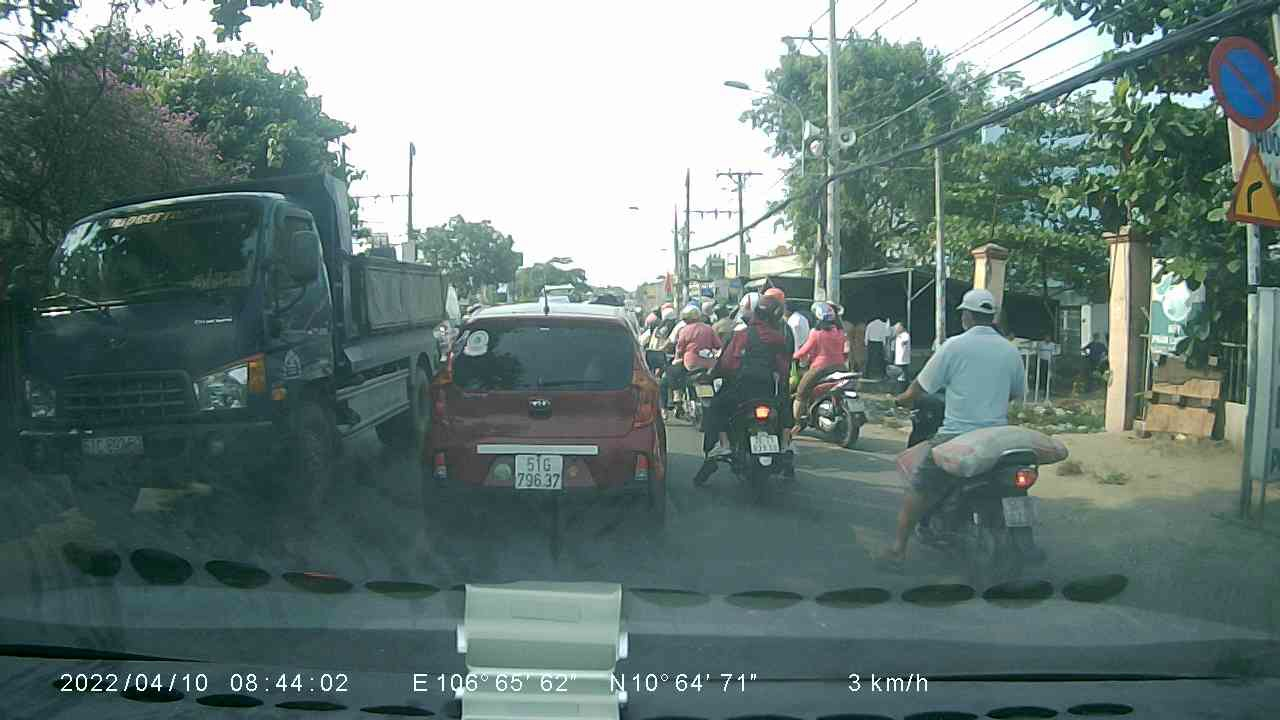Bien khac: (1224, 139, 1280, 231)
Cam do xe: (1204, 26, 1280, 135)
